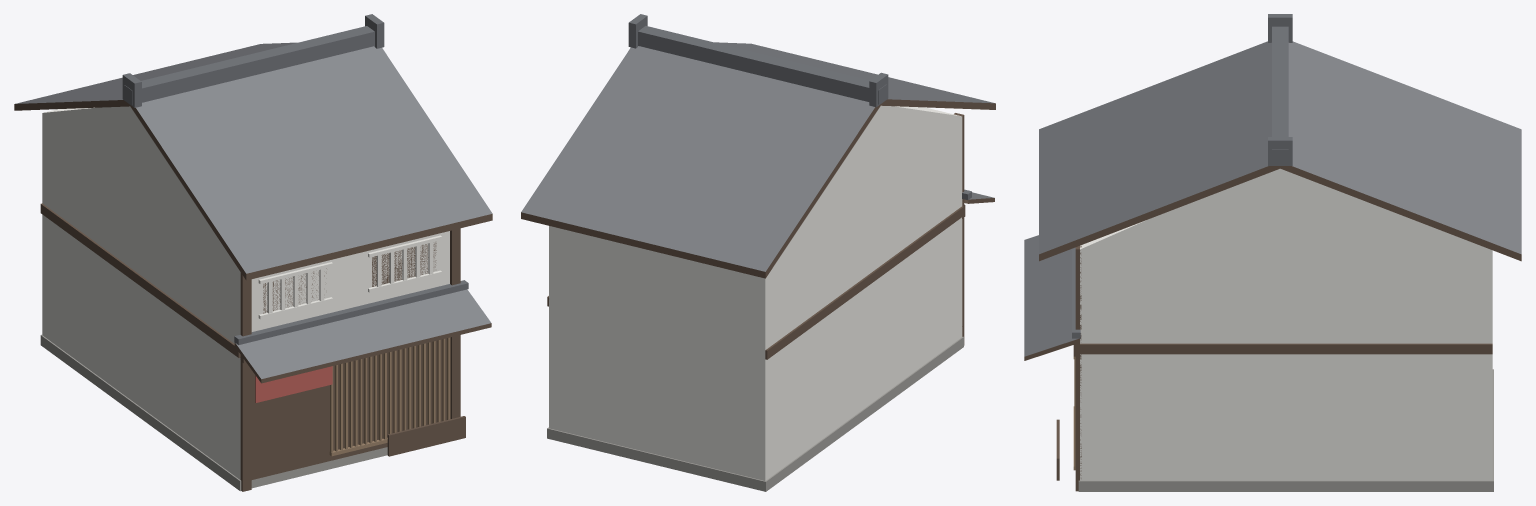
The model's file is HK_Machiya_A_Narrow.glb.
The picture shows the model from 3 angles, left to right: view 1: azimuth 30°, elevation 25°; view 2: azimuth 150°, elevation 25°; view 3: azimuth 270°, elevation 25°; orthographic projection. The views are drawn at different scales.
Visible parts, largest first — view 1: HK_Machiya_A_Narrow; view 2: HK_Machiya_A_Narrow; view 3: HK_Machiya_A_Narrow.
Boxes of the visible parts, x1=… form: HK_Machiya_A_Narrow: x1=14, y1=14, x2=492, y2=491; HK_Machiya_A_Narrow: x1=521, y1=14, x2=995, y2=491; HK_Machiya_A_Narrow: x1=1024, y1=14, x2=1521, y2=491.
Size of the model in its own units: 6.2 by 8.15 by 10.25.
